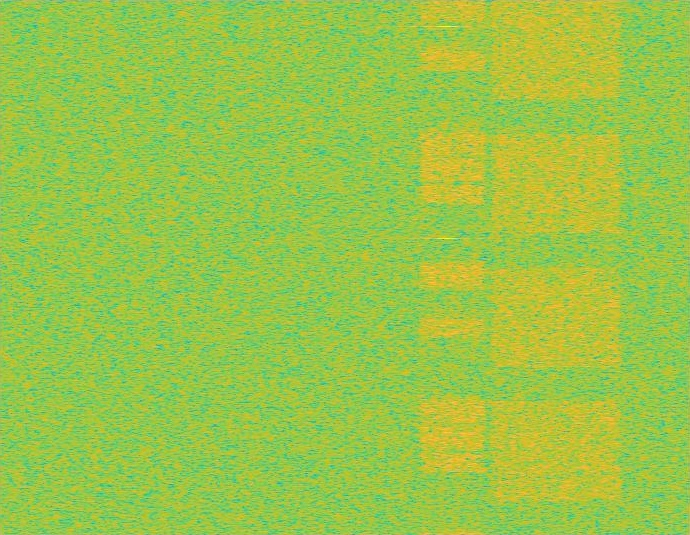5G: (487, 0, 625, 534)
LTE: (418, 0, 487, 534)
Radar: (440, 0, 454, 534)
